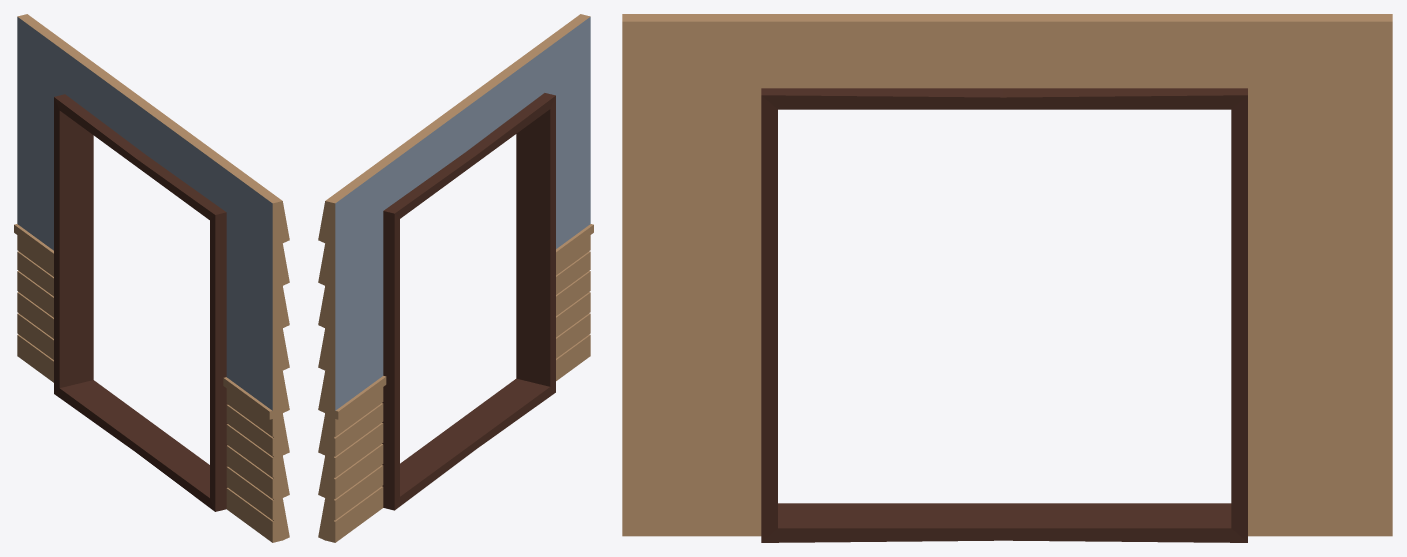
Rendered from Wall Door C-col.glb.
The picture shows the model from 3 angles, left to right: view 1: azimuth 30°, elevation 25°; view 2: azimuth 150°, elevation 25°; view 3: azimuth 270°, elevation 25°; orthographic projection. The views are drawn at different scales.
Parts seen in each view (by area): view 1: Wall Door C-col.001; view 2: Wall Door C-col.001; view 3: Wall Door C-col.001.
Boxes of the visible parts, x1,y1,x2,y2 form: Wall Door C-col.001: (14,14,289,542); Wall Door C-col.001: (318,14,593,542); Wall Door C-col.001: (622,14,1392,542).
Bounding box in the file's own units: 0.2339 × 2.2 × 3.
